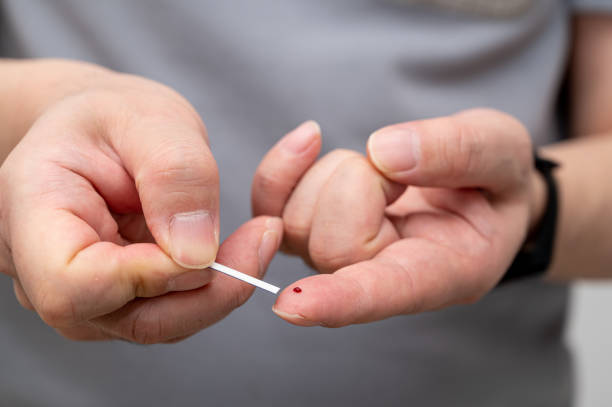blood: (290, 281, 307, 296)
